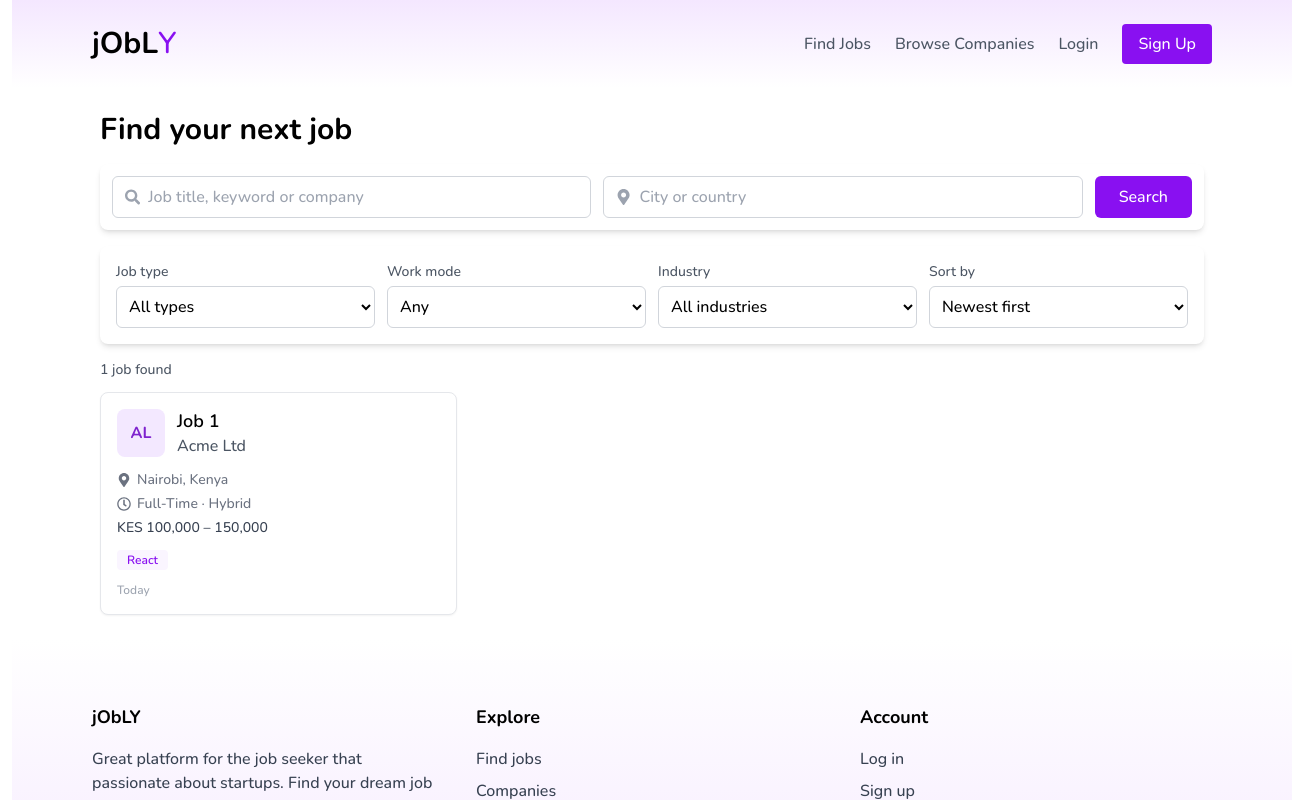
Test: JobSearchPage › submitting the search bar updates the URL and refetches
Expected: the heading "Job 1" is shown, left=177, top=409, right=220, bottom=433
In the field with placeholder "Job title, keyword or company": (363, 197) left=148, top=177, right=578, bottom=217, type "react"
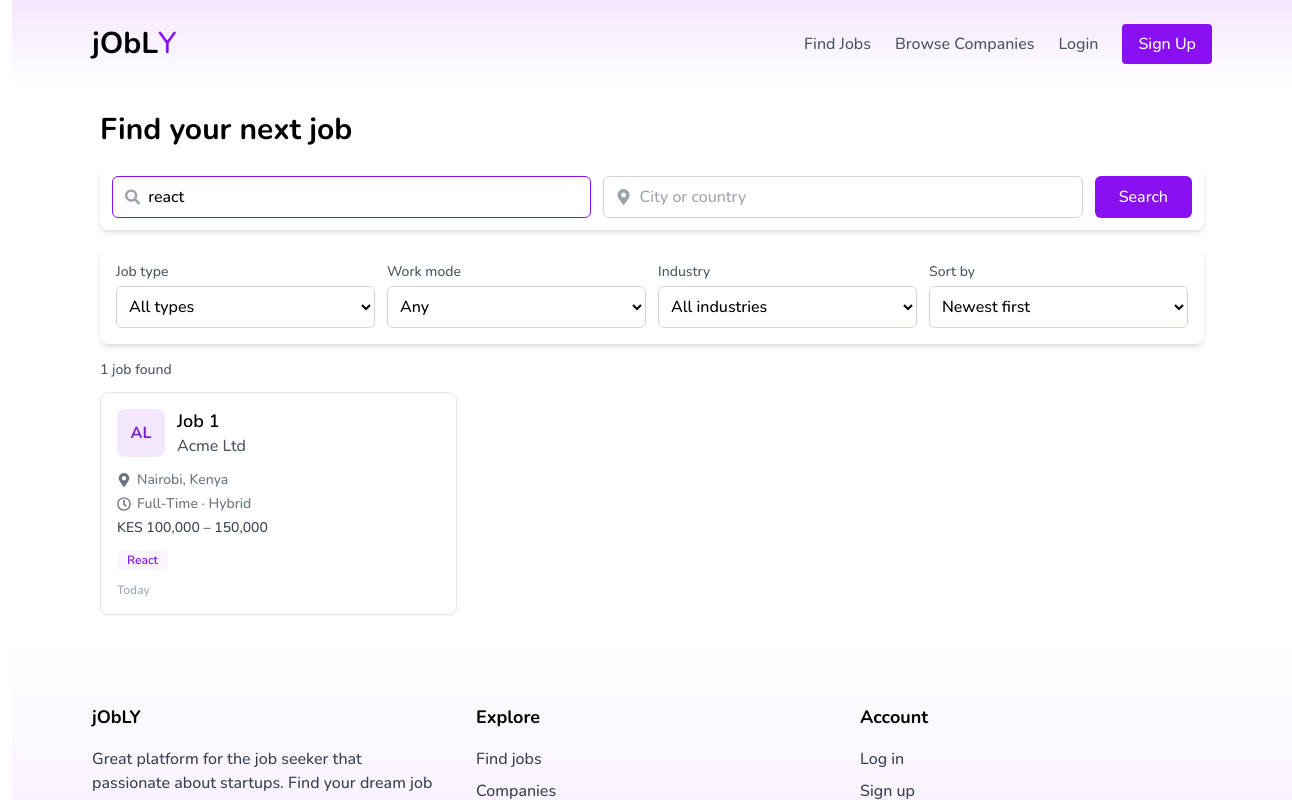
Click the button "Search": (1143, 197) left=1095, top=176, right=1192, bottom=218
(page scrolled)
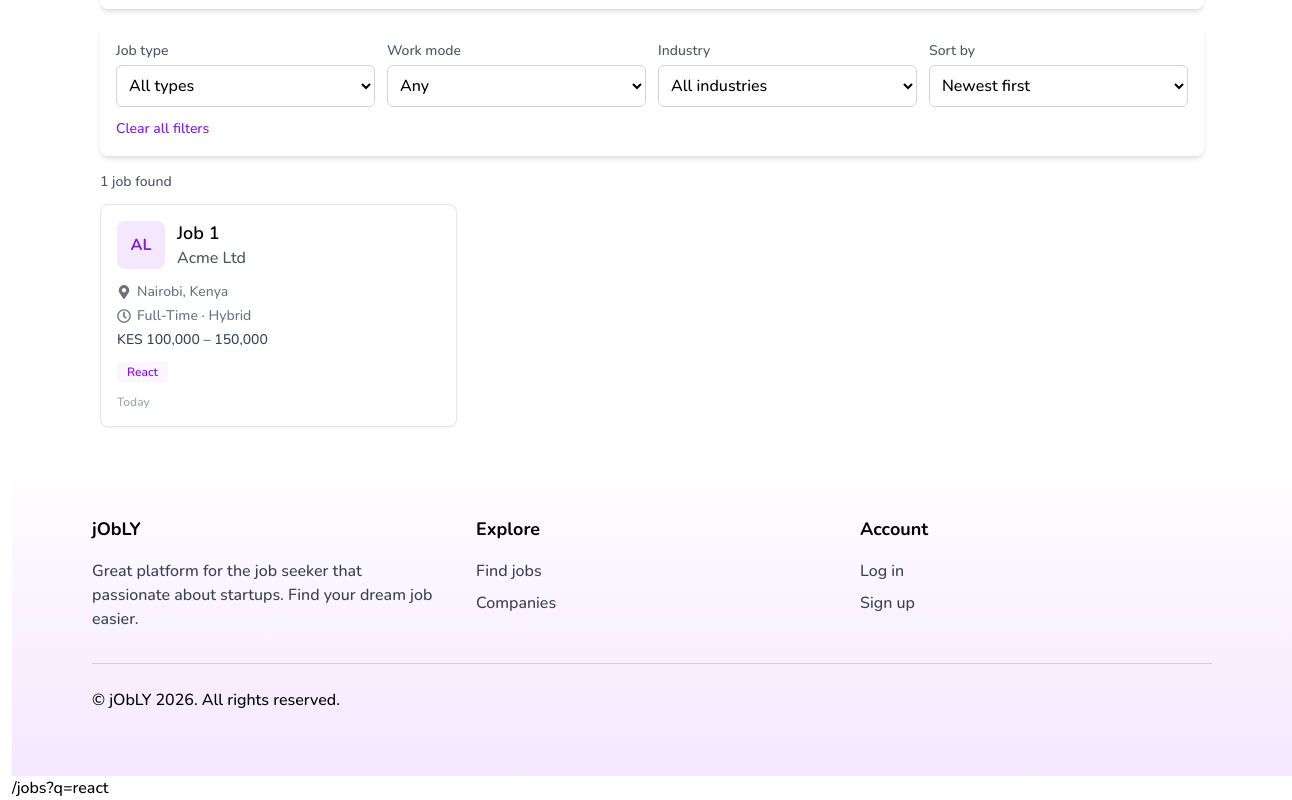
Result: the text with test id "loc" reads "/jobs?q=react" at left=12, top=777, right=109, bottom=799
